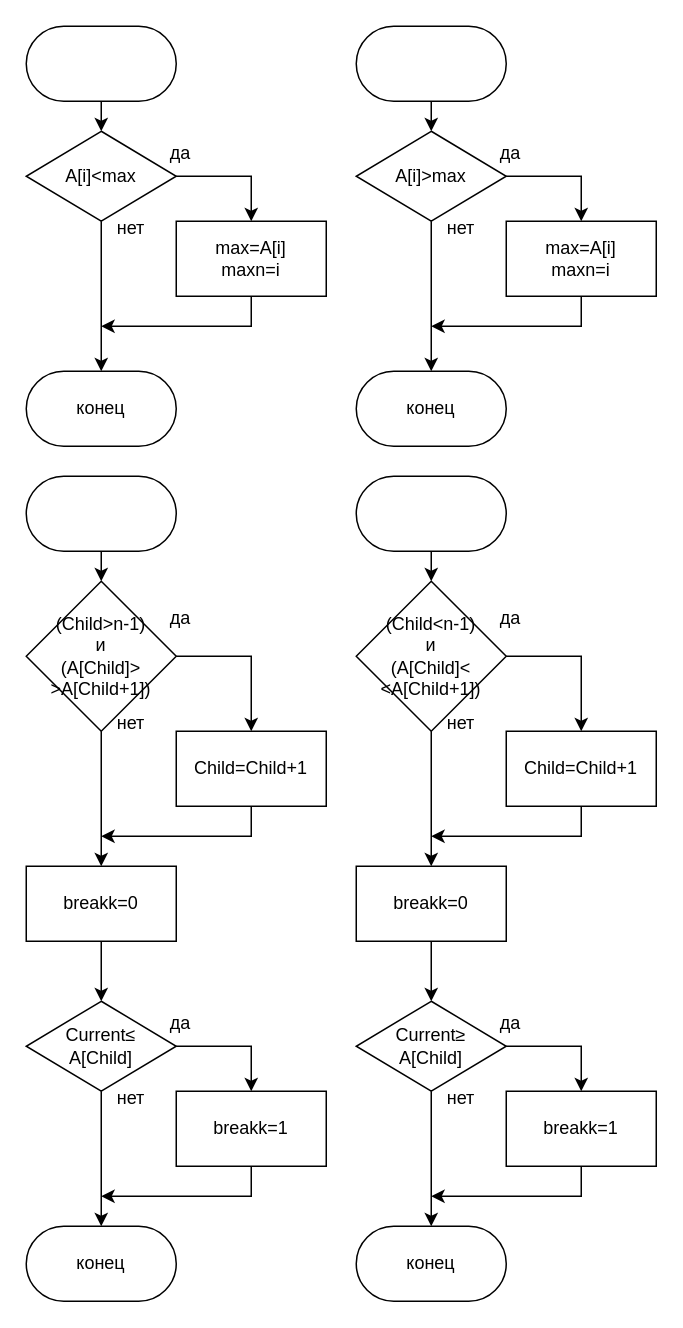
This 683x1328 diagram has some shape labels left out. The centre of each missing label's shape, as x and y in pixels:
начало max_minSO: [100,63]
начало max_minSP: [100,513]
начало min_maxSO: [430,63]
начало min_maxSP: [430,513]
